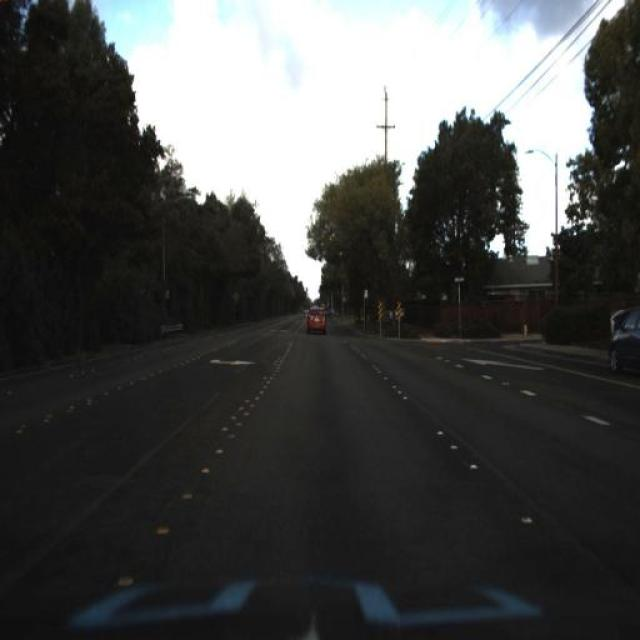car: (609, 310, 639, 378), (302, 300, 329, 344)
